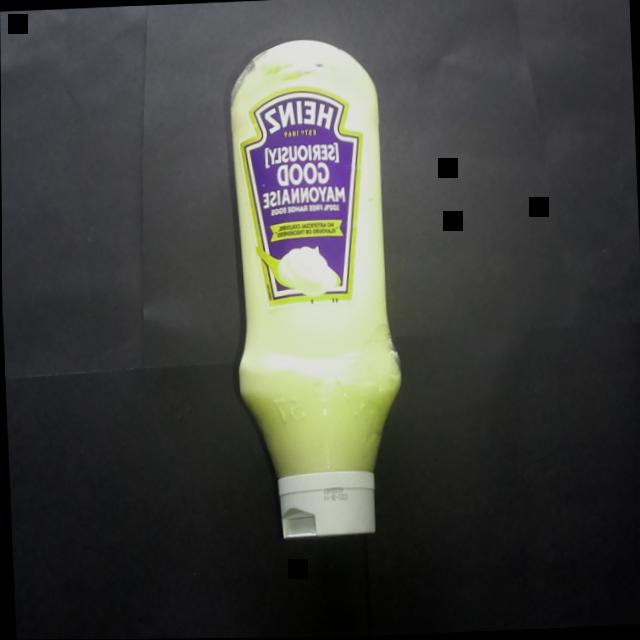Mayonnaise: (220, 28, 412, 556)
